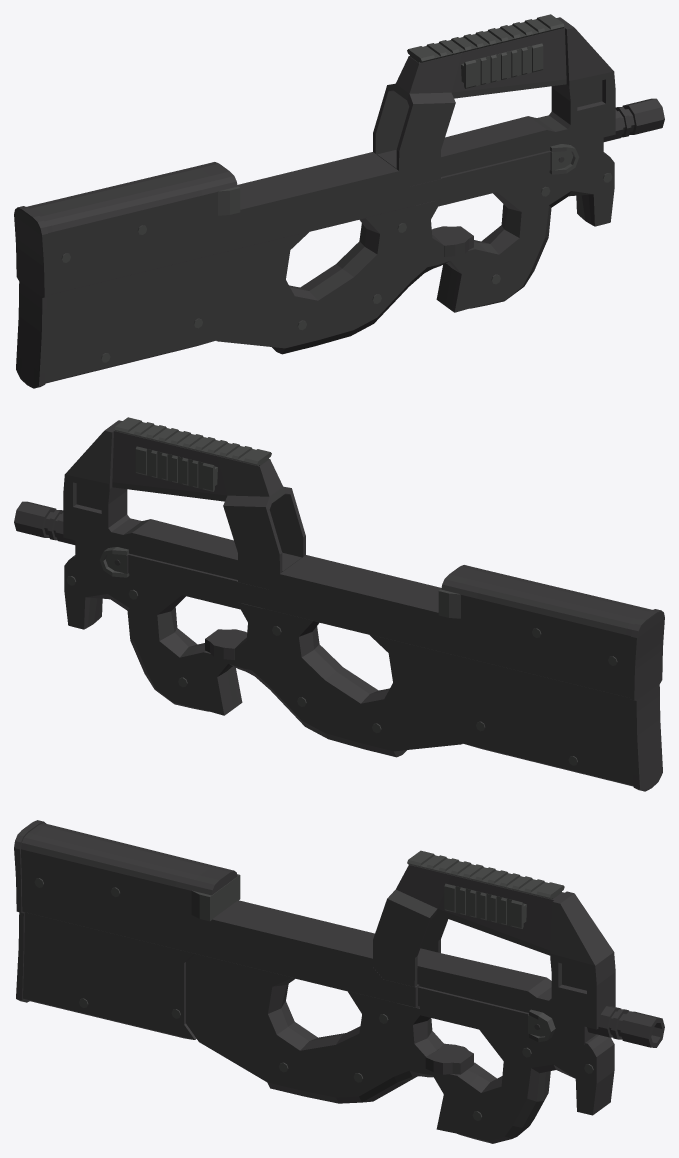
Rendered from SM_SMG4_01.glb.
3 views of the same model, one above another, from view 1: azimuth 30°, elevation 25°; view 2: azimuth 150°, elevation 25°; view 3: azimuth 330°, elevation 25° (orthographic).
Parts seen in each view (by area): view 1: SM_SMG4_01; view 2: SM_SMG4_01; view 3: SM_SMG4_01.
Boxes of the visible parts, x1,y1,x2,y2 form: SM_SMG4_01: [14, 14, 664, 388]; SM_SMG4_01: [14, 417, 664, 791]; SM_SMG4_01: [14, 820, 664, 1143].
Bounding box in the file's own units: 0.6062 × 0.244 × 0.0506.
1 material, 1 textured.
